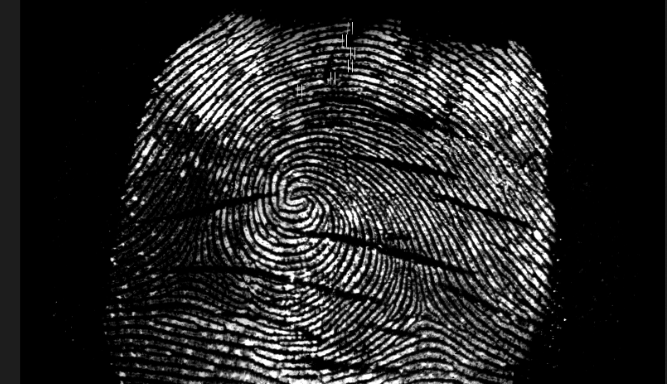nucelo: (280, 187, 315, 223)
verticilo: (402, 295, 449, 331), (166, 254, 205, 283)
